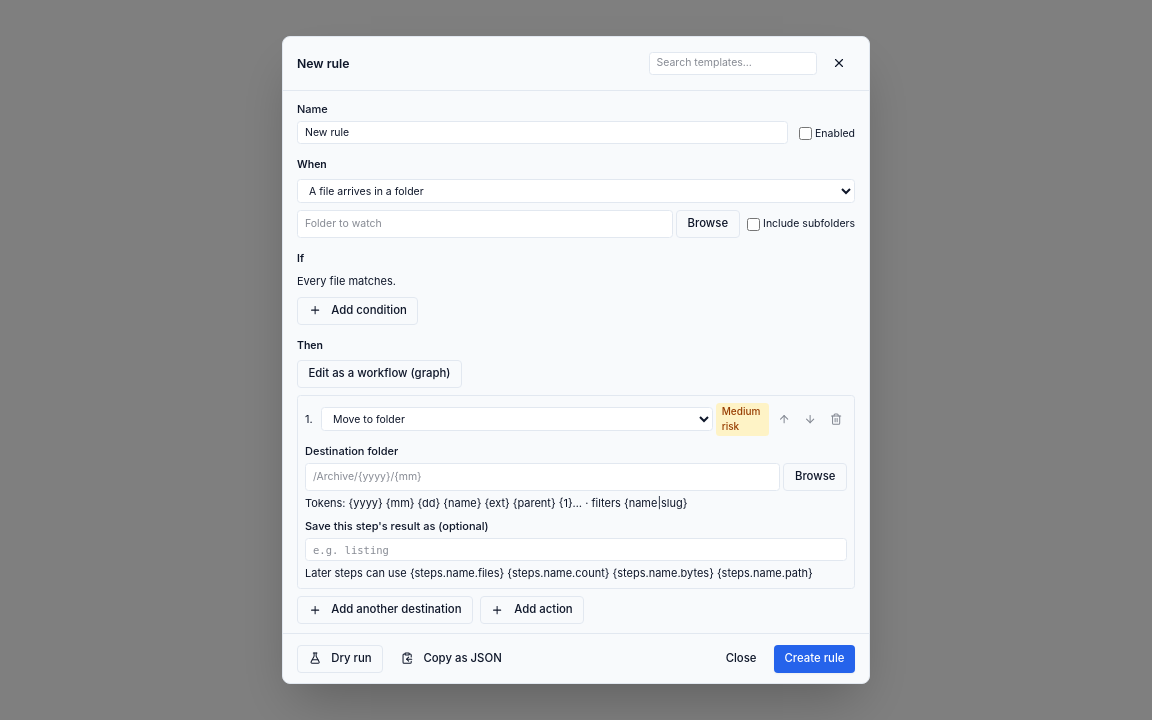
Test: rule editor in Advanced mode › starts from a searched template (Advanced) and keeps the plain list in Standard
The width and height of the screenshot is (1152, 720).
Type "antivirus" into the dropdown named "Start from a template" at (732, 63), box [648,52,816,75]
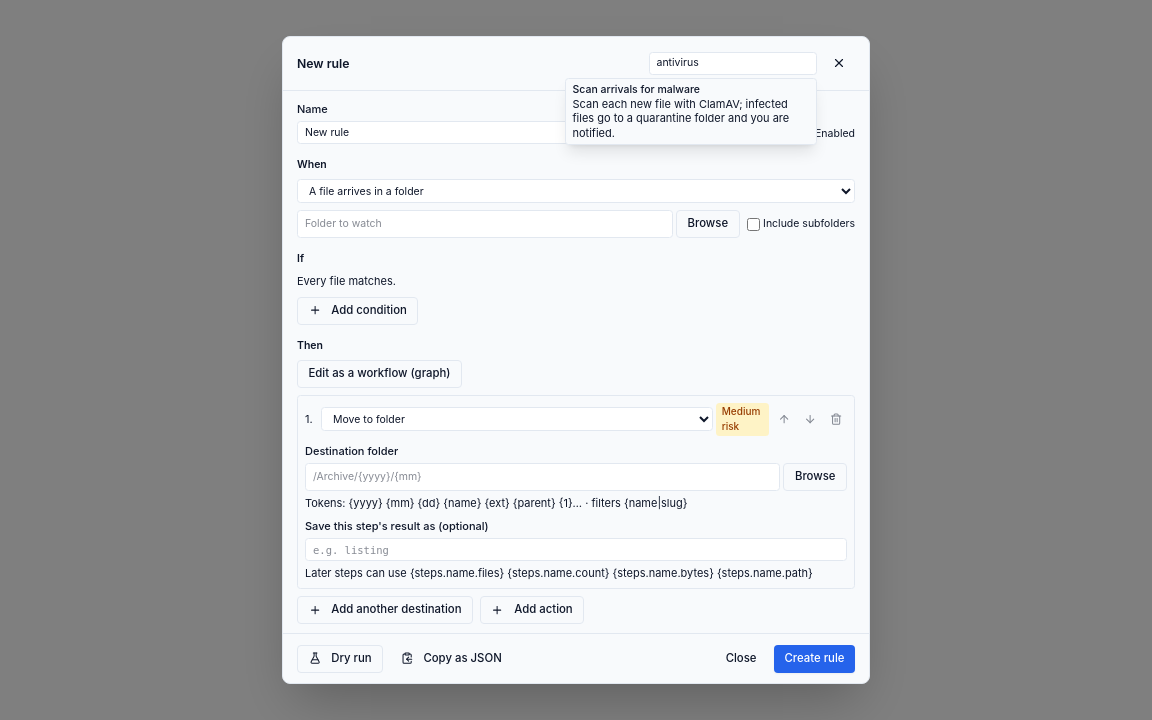
Click the option "Scan arrivals for malware" at (690, 112), box [566,79,816,144]
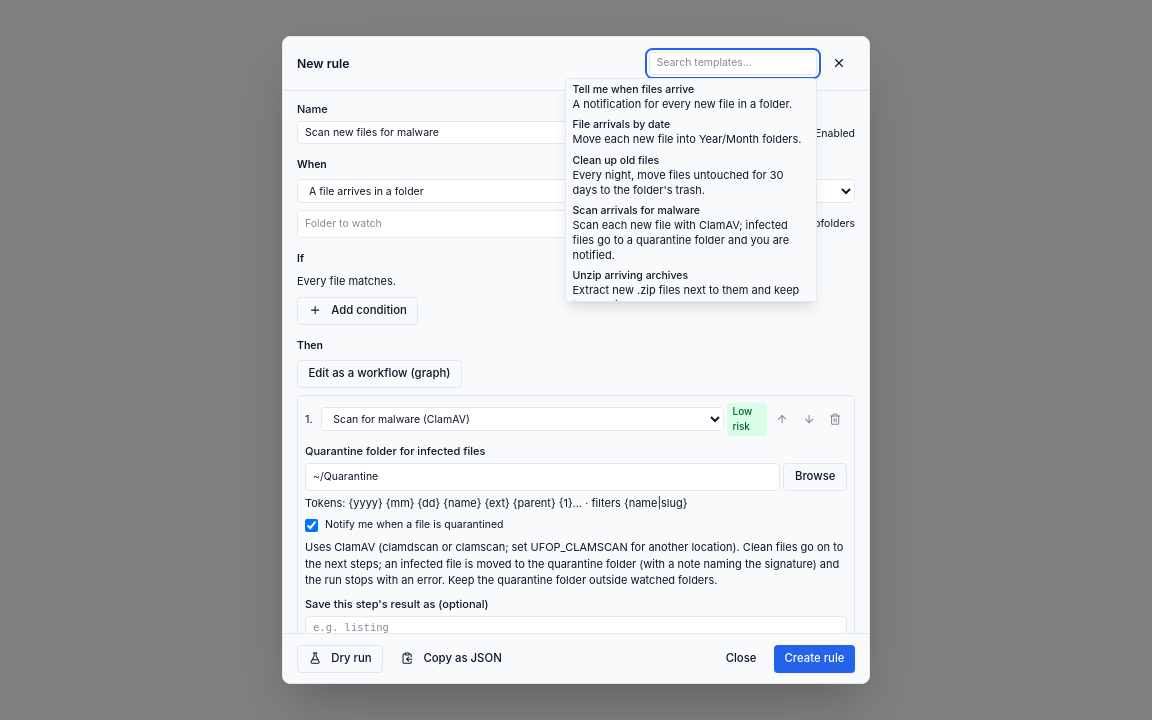
Expected: the field labelled "Name" holds "Scan new files for malware", [297,121,788,144]
Expected: the dropdown named "Action 1" shows "Scan for malware (ClamAV)", [321,407,724,431]
